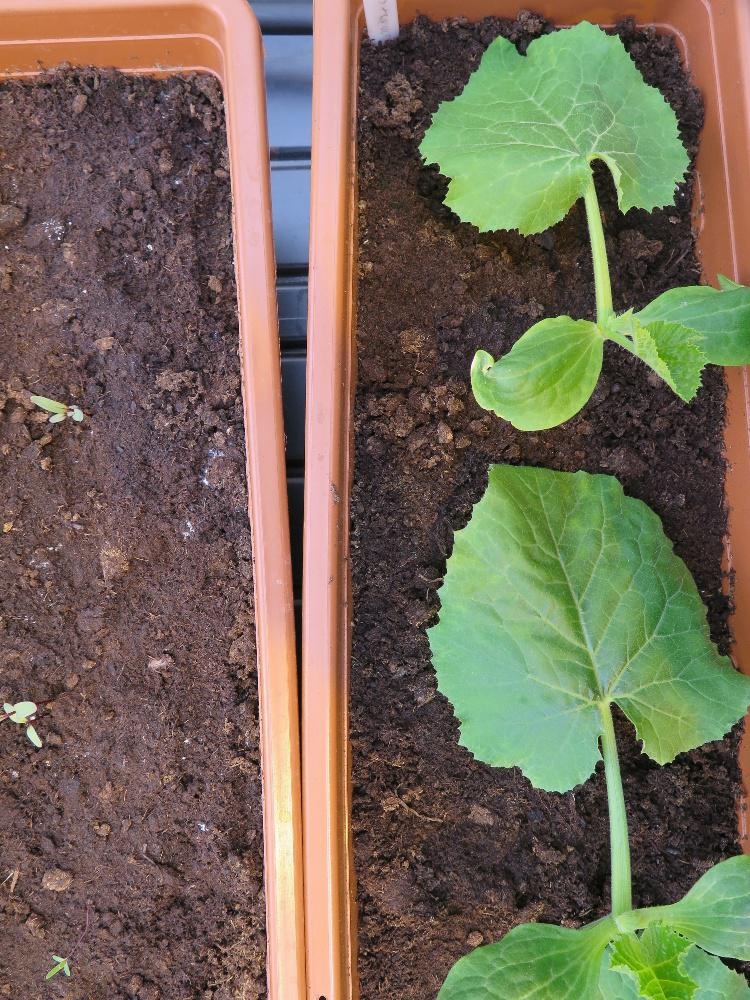weed: (44, 949, 69, 980)
